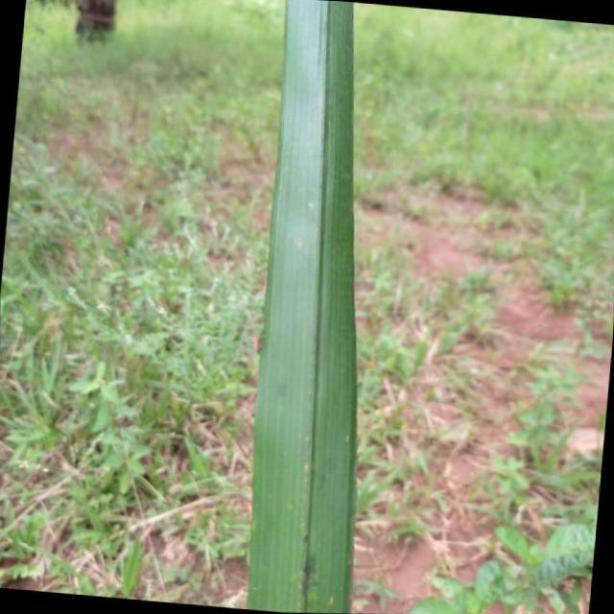Kalium: (249, 5, 360, 614)
